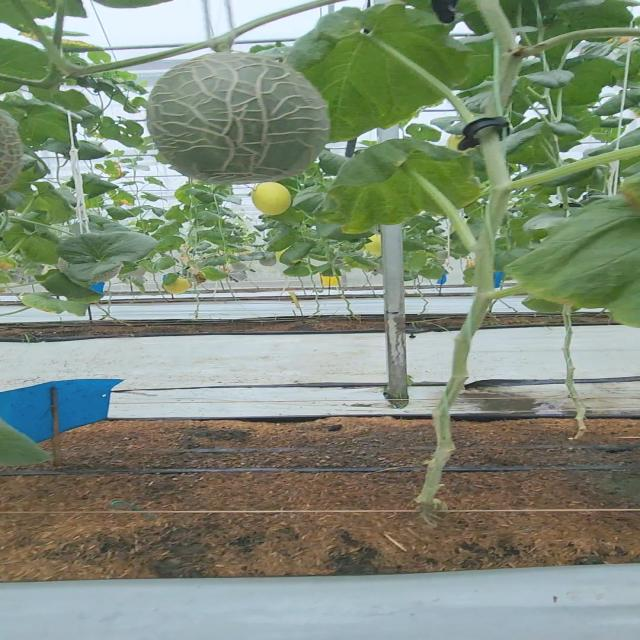Front-melon: (146, 52, 326, 184)
Rear-melon: (257, 182, 294, 213)
